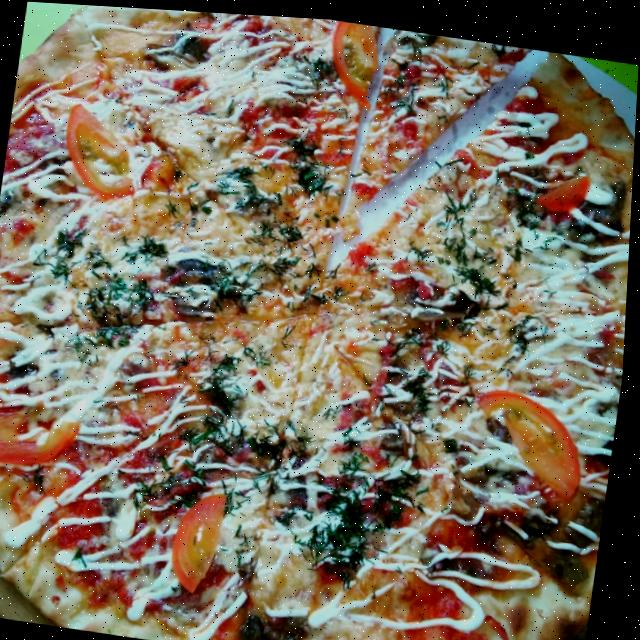pizza: (0, 0, 640, 640)
tomatoes: (462, 378, 598, 503), (57, 100, 147, 202), (170, 481, 236, 596), (0, 404, 87, 475), (320, 15, 384, 100), (533, 160, 592, 207)
